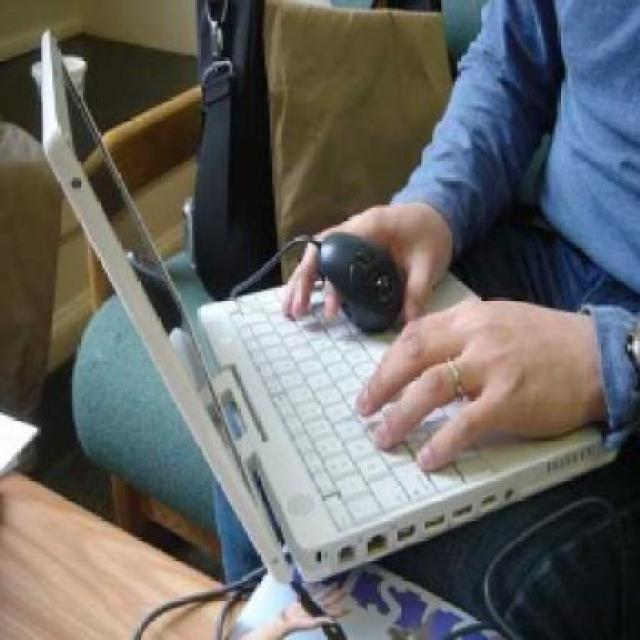mause: (284, 210, 428, 355)
